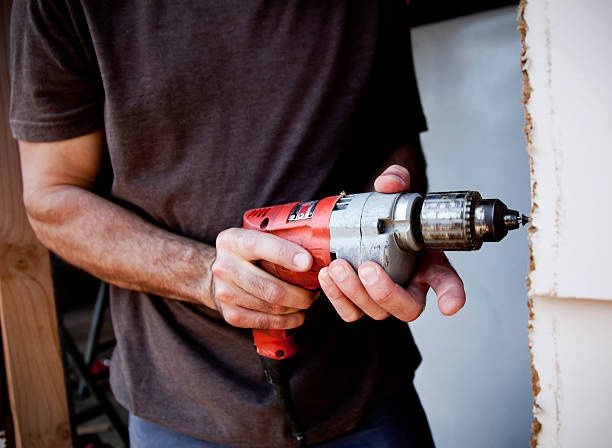driller: (238, 190, 529, 362)
